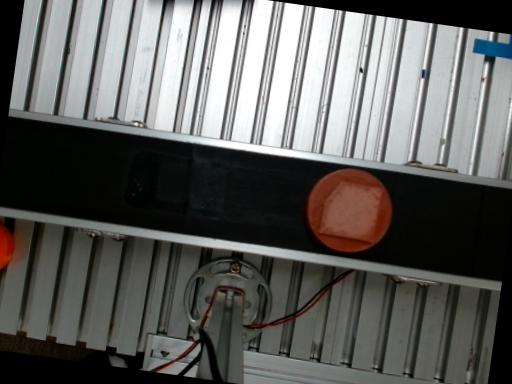Brown_Waper: (307, 168, 392, 252)
Not_Square: (317, 180, 384, 243)
